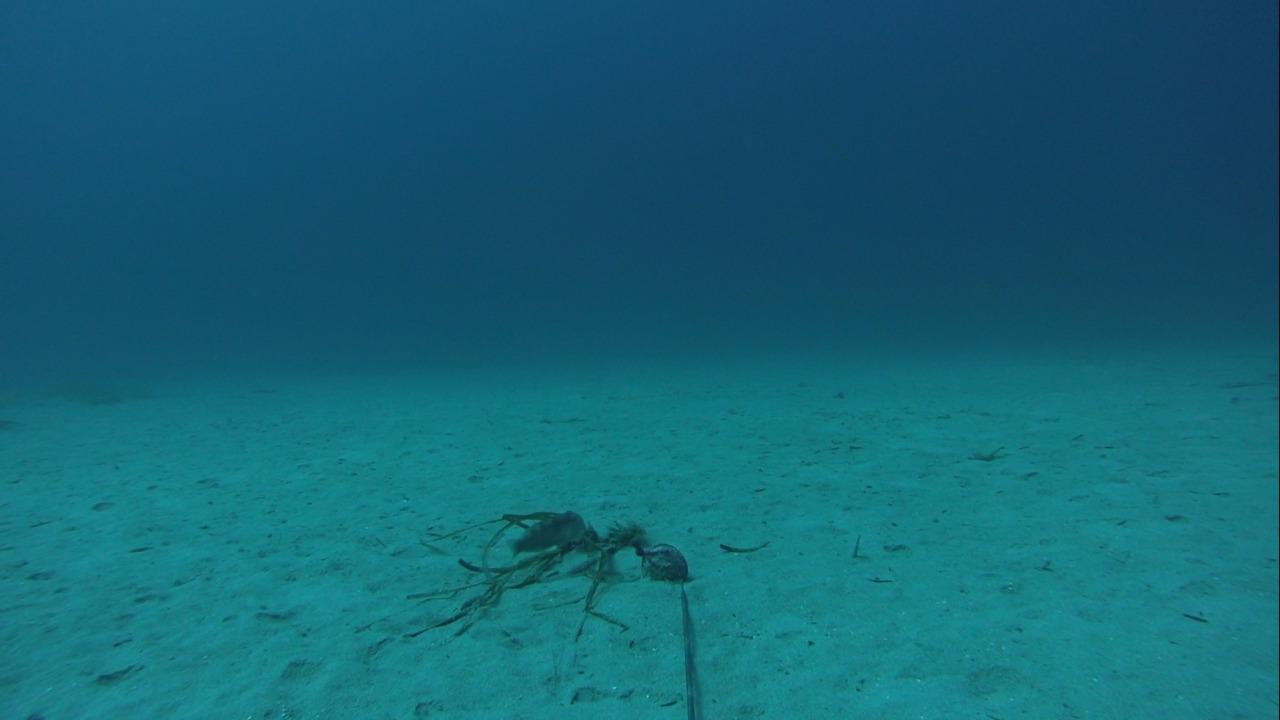raor: (506, 505, 590, 567)
